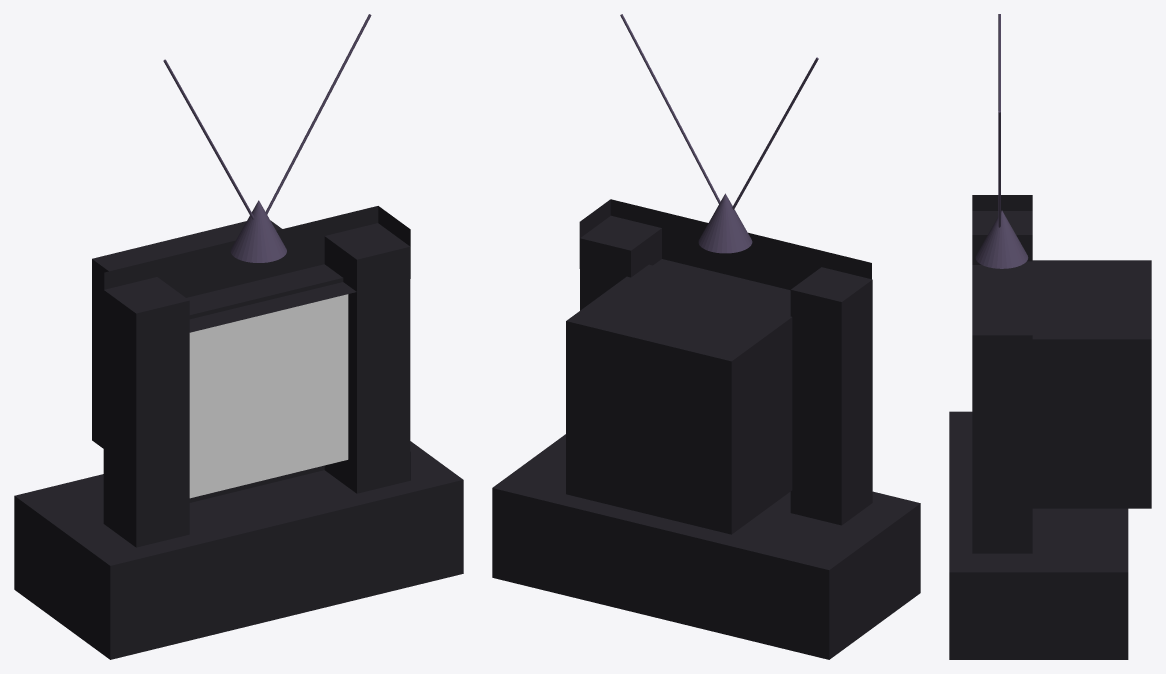
3 renders of one model, left to right at view 1: azimuth 30°, elevation 25°; view 2: azimuth 150°, elevation 25°; view 3: azimuth 270°, elevation 25°, orthographic. The views are drawn at different scales.
Visible parts, largest first — view 1: Cube.002, Cube, Cube.003, Cube.001, Cube.004, Cube.006, Cone, Cylinder, Cube.005; view 2: Cube.006, Cube.002, Cube.003, Cube.004, Cube.001, Cone, Cylinder; view 3: Cube.006, Cube.002, Cube.001, Cube.004, Cone, Cube.003, Cylinder.
Part boxes in pixels (x1,y1,x2,y2): Cube.002: [14, 441, 463, 659]; Cube: [189, 294, 348, 498]; Cube.003: [103, 277, 189, 547]; Cube.001: [324, 223, 410, 493]; Cube.004: [104, 206, 410, 332]; Cube.006: [92, 220, 343, 448]; Cone: [230, 200, 286, 262]; Cylinder: [265, 14, 371, 214]; Cube.005: [189, 452, 410, 502]; Cube.006: [566, 264, 792, 534]; Cube.002: [492, 434, 920, 659]; Cube.003: [790, 267, 872, 525]; Cube.004: [579, 199, 871, 298]; Cube.001: [580, 215, 661, 310]; Cone: [698, 193, 752, 253]; Cylinder: [620, 14, 720, 203]; Cube.006: [998, 260, 1151, 508]; Cube.002: [949, 411, 1128, 659]; Cube.001: [972, 311, 1032, 553]; Cube.004: [972, 195, 1032, 310]; Cone: [975, 210, 1028, 268]; Cube.003: [972, 211, 1032, 264]; Cylinder: [998, 110, 1000, 227].
Bounding box in the file's own units: 425 × 645 × 226.
